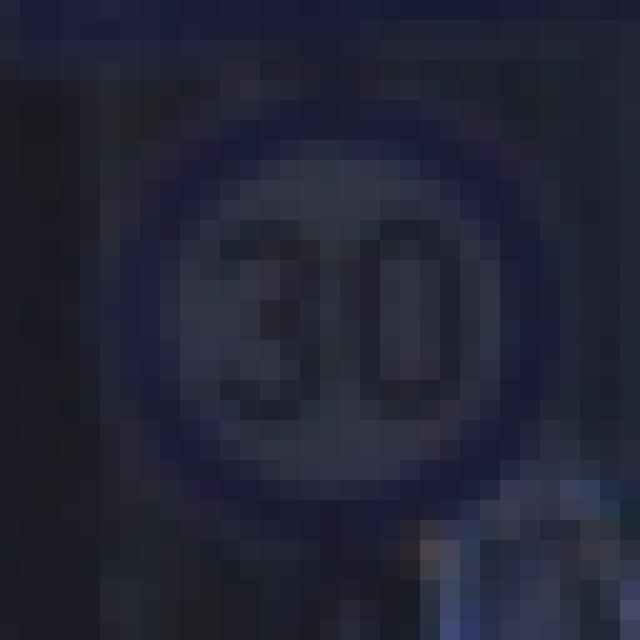SPEED LIMIT 30: (94, 103, 556, 516)
